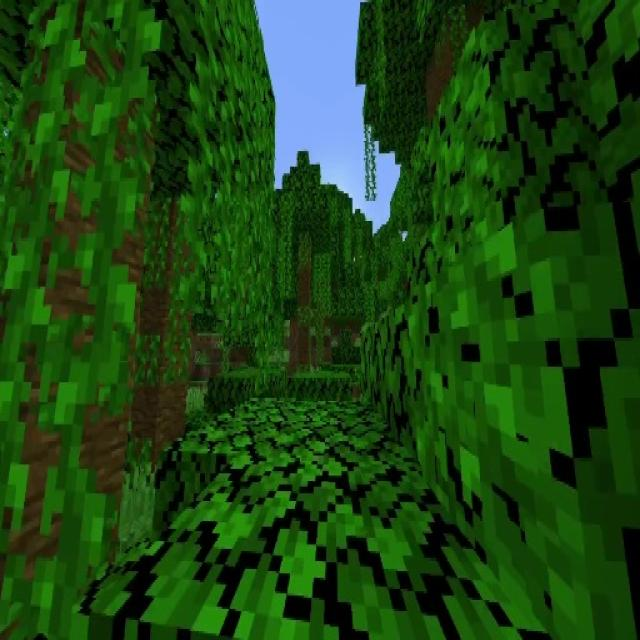jungle_log: (0, 0, 152, 561), (132, 204, 188, 470)
